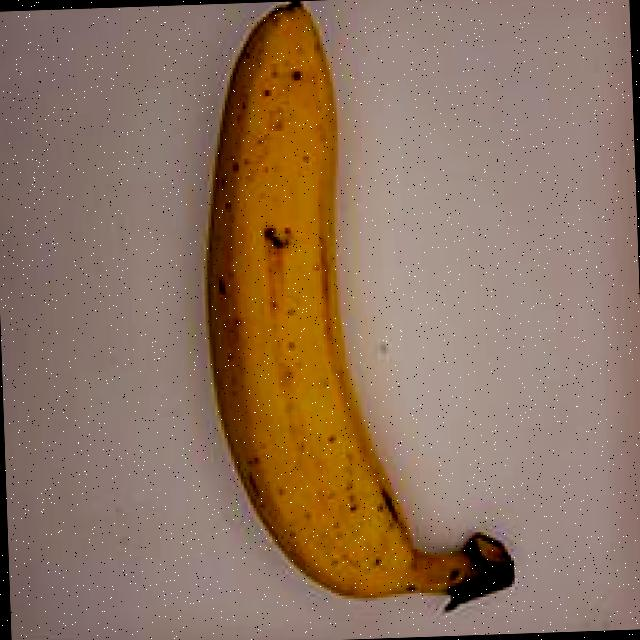Overripe: (147, 0, 529, 624)
